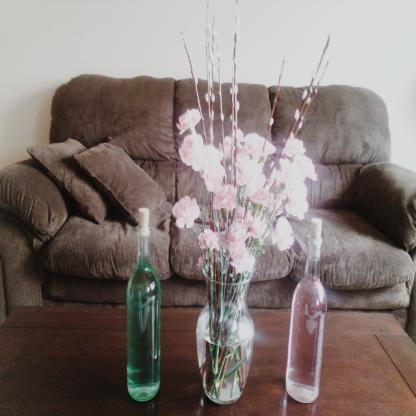vase: (196, 267, 256, 404)
